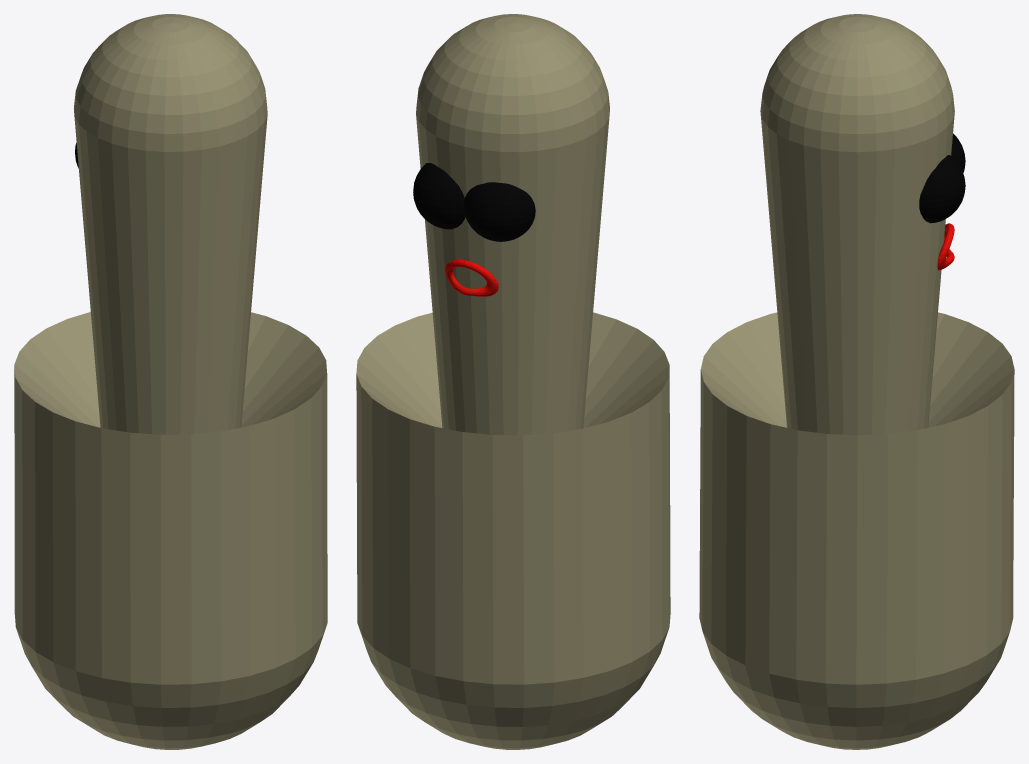
File: enemy2.fbx
3 views of the same model, side by side, from view 1: azimuth 30°, elevation 25°; view 2: azimuth 150°, elevation 25°; view 3: azimuth 270°, elevation 25° (orthographic).
Visible parts, largest first — view 1: Sphere; view 2: Sphere; view 3: Sphere.
Boxes of the visible parts, x1,y1,x2,y2 form: Sphere: (14, 14, 327, 749); Sphere: (356, 14, 670, 749); Sphere: (699, 14, 1014, 749).
Bounding box in the file's own units: 196 × 491 × 197.
